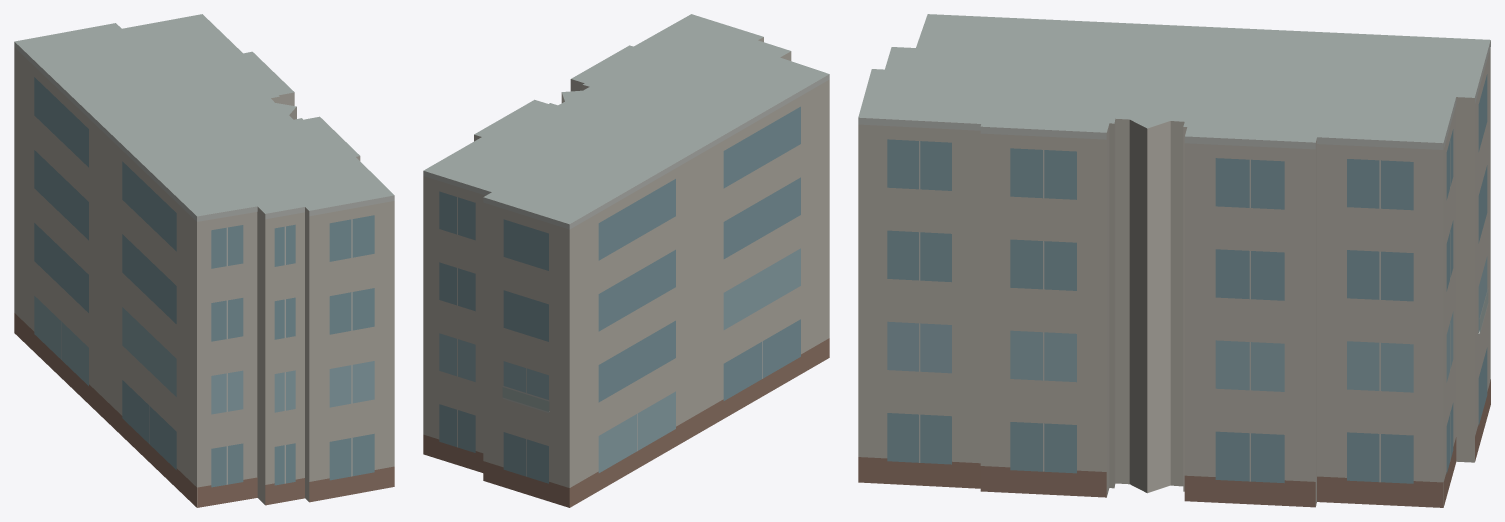
The model's file is survey-upis-32803043.glb.
3 views of the same model, side by side, from view 1: azimuth 30°, elevation 25°; view 2: azimuth 150°, elevation 25°; view 3: azimuth 270°, elevation 25° (orthographic). The views are drawn at different scales.
Parts seen in each view (by area): view 1: survey-upis-32803043.tmp; view 2: survey-upis-32803043.tmp; view 3: survey-upis-32803043.tmp.
Part boxes in pixels (box(x1,y1,x2,y2)): survey-upis-32803043.tmp: box(14, 14, 394, 507); survey-upis-32803043.tmp: box(423, 14, 829, 507); survey-upis-32803043.tmp: box(858, 14, 1490, 507).
Size of the model in its own units: 9.91 by 13.03 by 20.49.
